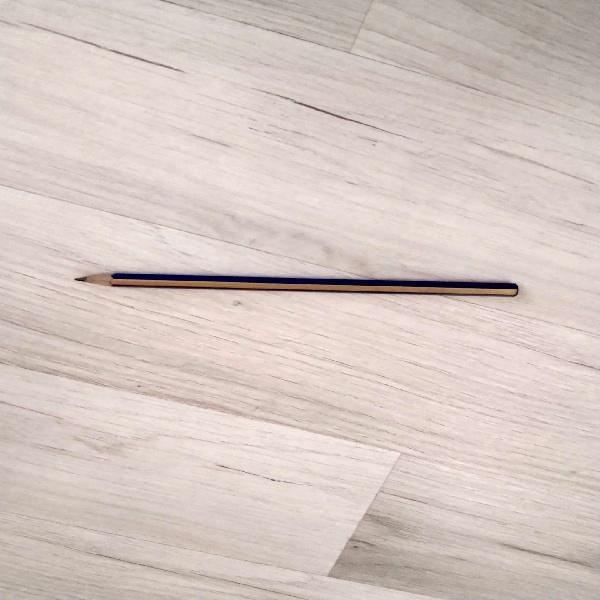pencil: (68, 265, 526, 311)
